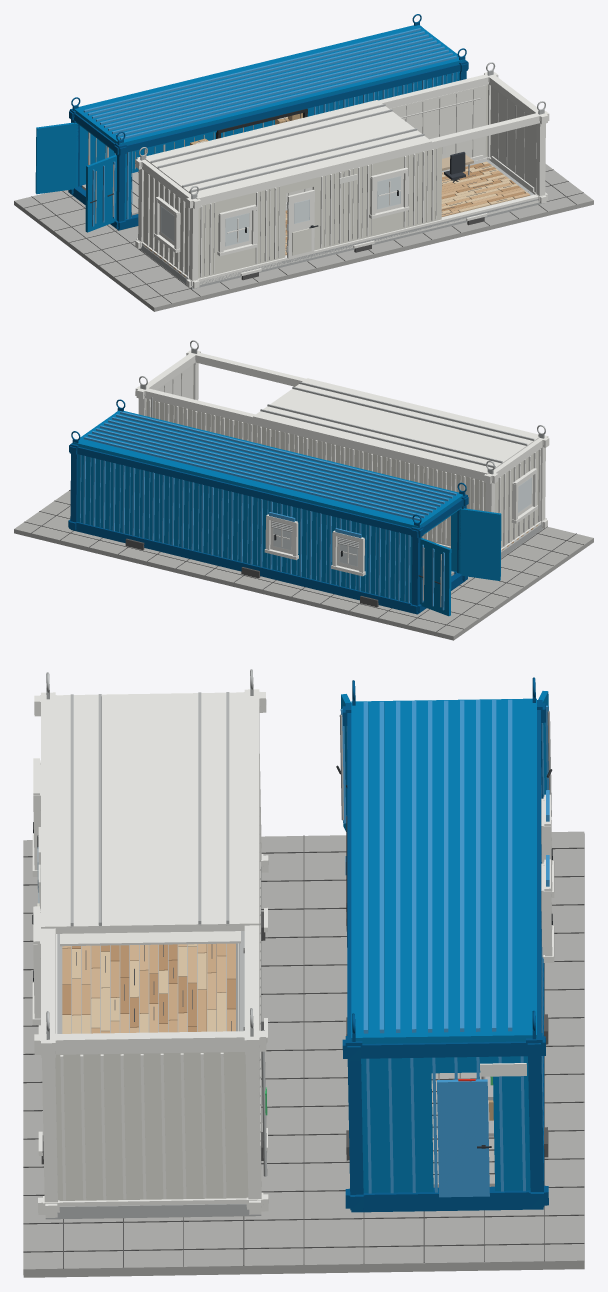
Rendered from lager-container.glb.
The picture shows the model from 3 angles, top to bottom: view 1: azimuth 30°, elevation 25°; view 2: azimuth 150°, elevation 25°; view 3: azimuth 270°, elevation 25°; orthographic projection. The views are drawn at different scales.
Visible parts, largest first — view 1: Detaillierter Buero- und Lagercontainer; view 2: Detaillierter Buero- und Lagercontainer; view 3: Detaillierter Buero- und Lagercontainer.
Boxes of the visible parts, <box> form: Detaillierter Buero- und Lagercontainer: <box>14,14,593,311</box>; Detaillierter Buero- und Lagercontainer: <box>14,340,593,640</box>; Detaillierter Buero- und Lagercontainer: <box>23,669,584,1277</box>.
Size of the model in its own units: 15.2 by 3.69 by 8.4.
